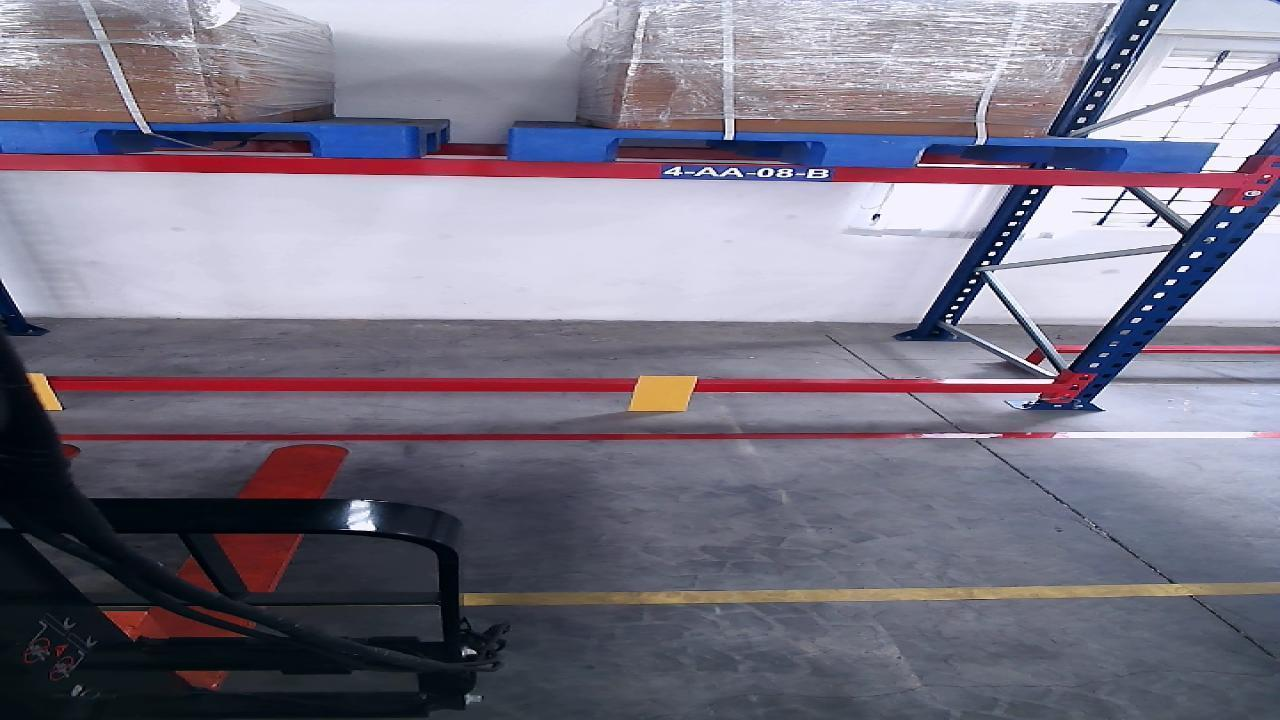red_line: (65, 431, 1278, 439)
yellow_line: (469, 582, 1277, 605)
